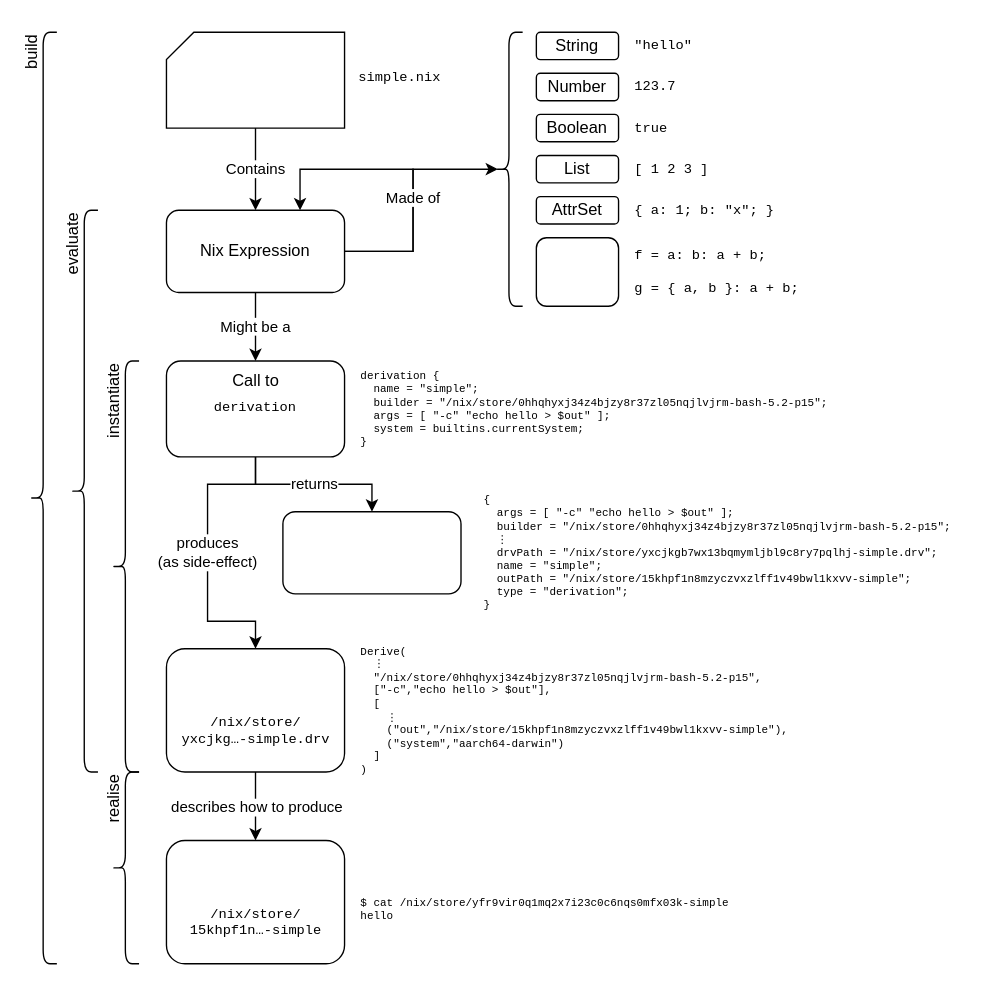
The diagram is 999 pixels wide and 988 high, and some of its shapes have lost their labels. Here are the shapes that lost their labels. From the top down, the box of each, then its label:
(165, 31, 345, 128): Nix file
(535, 236, 619, 306): Function
(282, 510, 461, 594): Derivation attrset representation
(165, 647, 345, 772): Derivation File
(165, 839, 345, 964): Output
